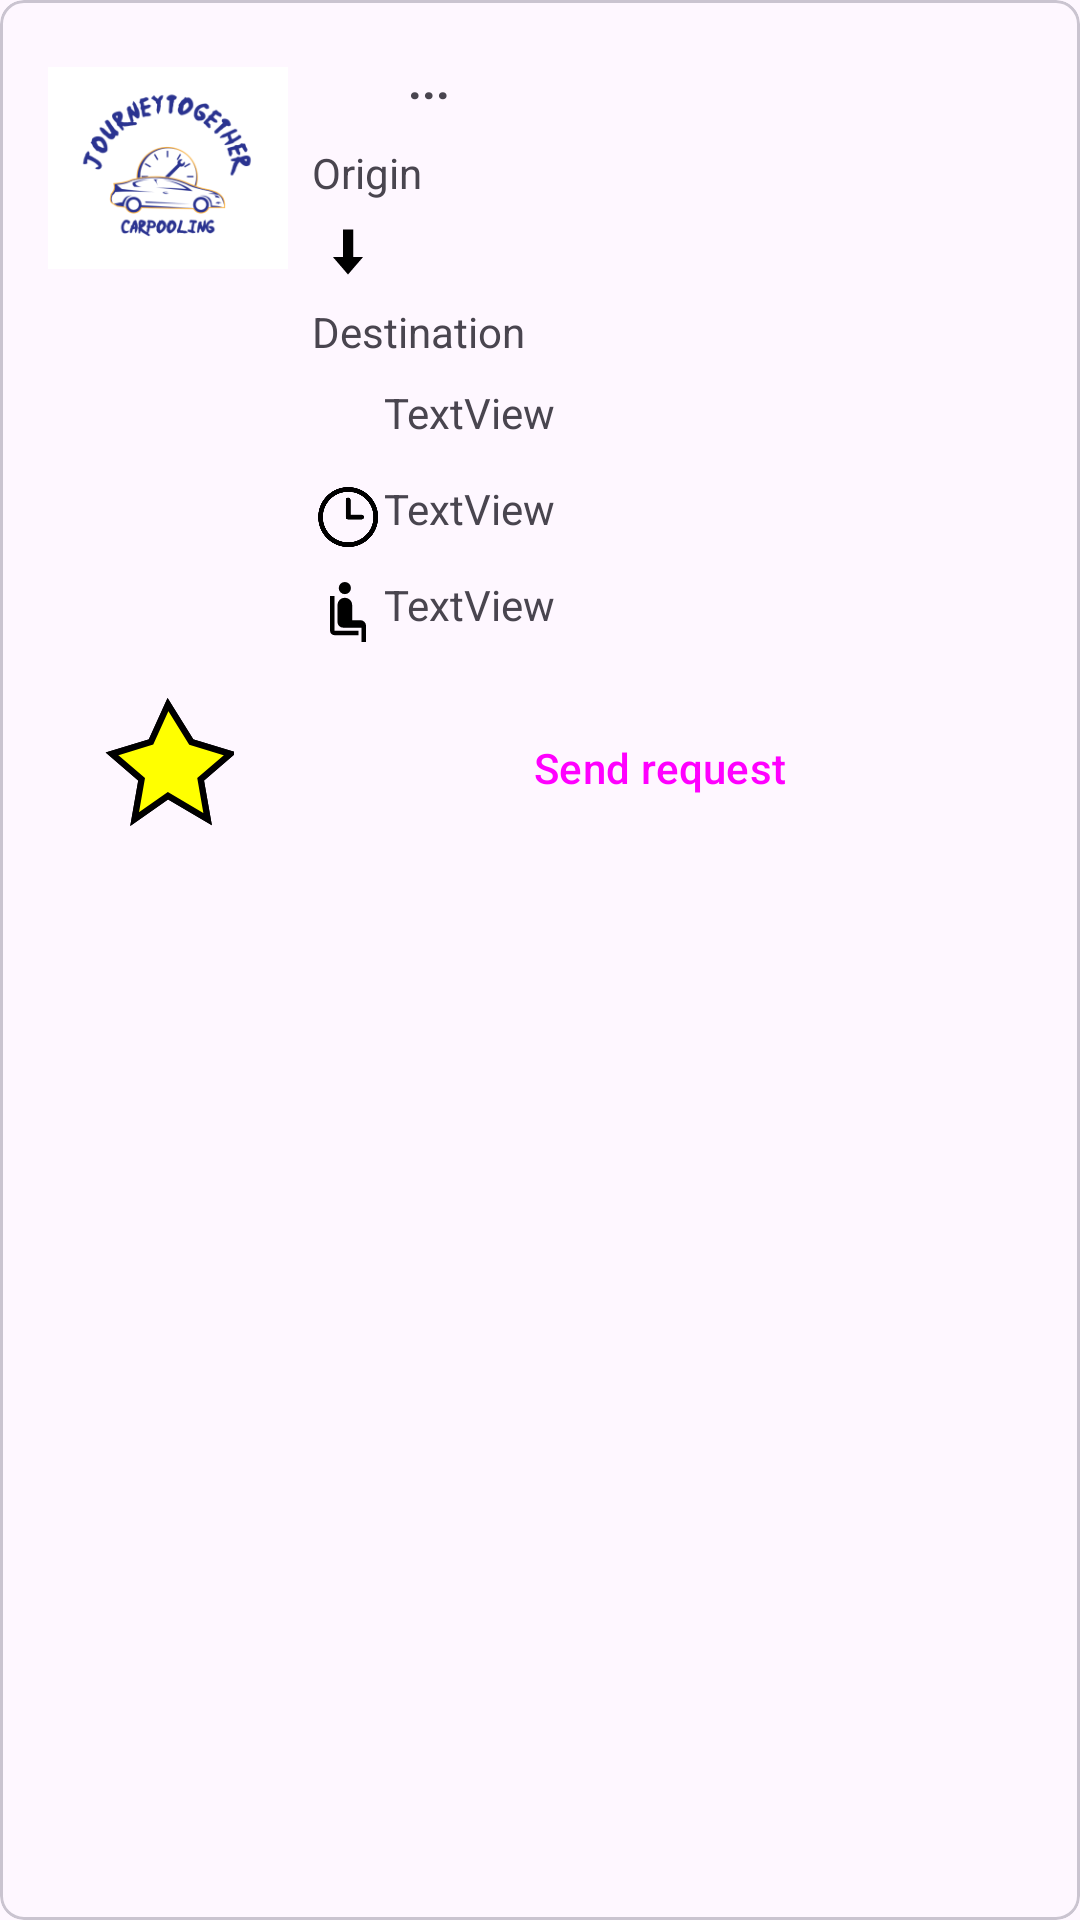

Point at icon controls on the screen. Image size 1080×1920, points as point (x, y).
seats: point (348, 612)
time: point (348, 517)
toggle star: point (169, 762)
